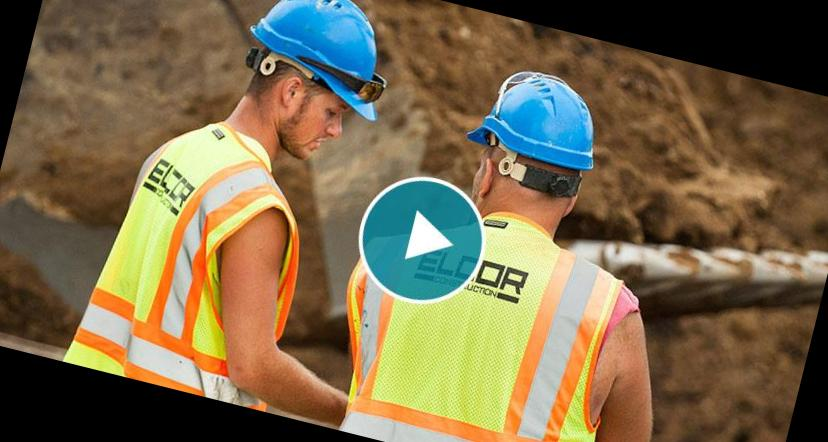Vest: (330, 185, 645, 442), (74, 106, 328, 411)
